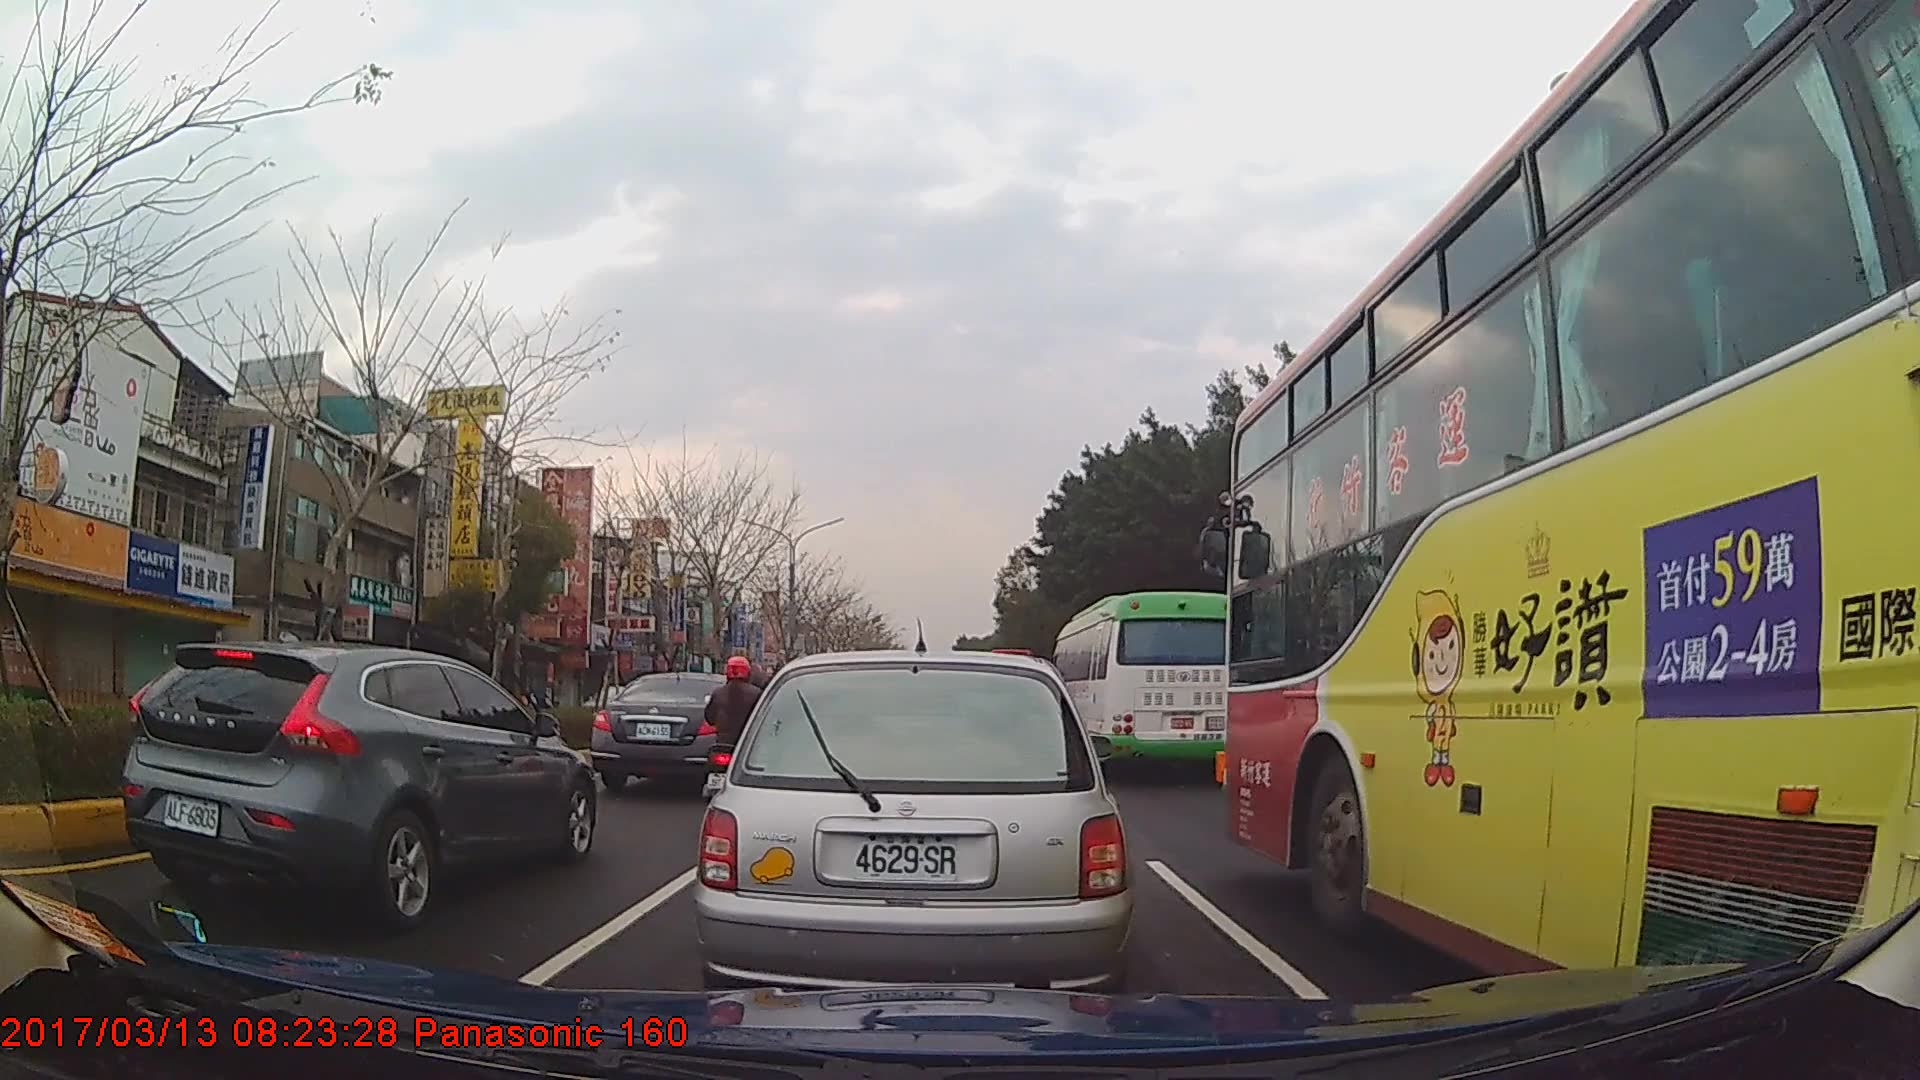rider: (703, 654, 777, 822)
vehicle: (1223, 0, 1920, 1008), (693, 645, 1132, 1005), (117, 639, 597, 930), (1046, 589, 1235, 779), (593, 670, 763, 794)
